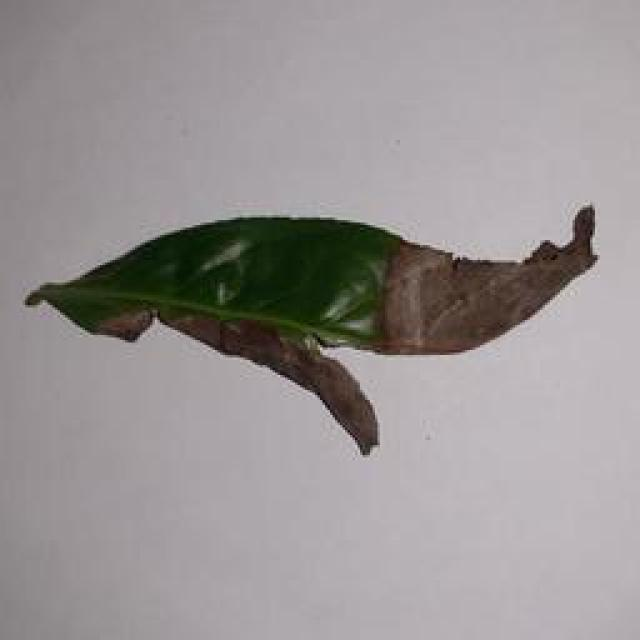Brown Blight: (0, 202, 612, 455)
